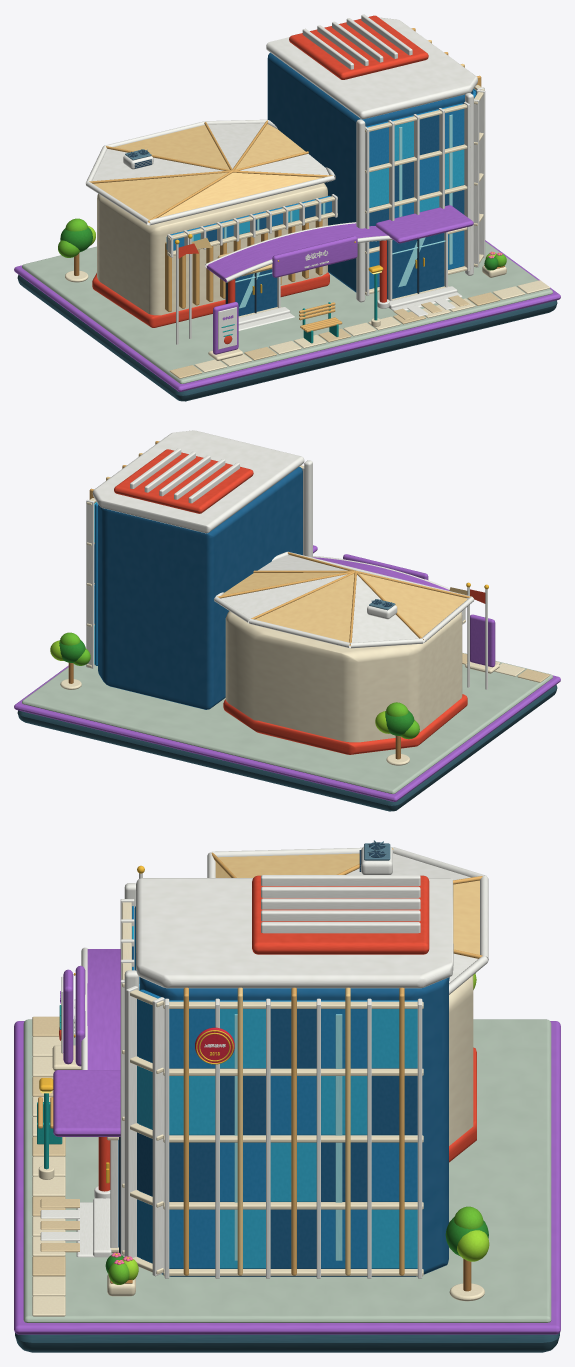
The model's file is 15_conference_center.glb.
3 renders of one model, top to bottom at view 1: azimuth 30°, elevation 25°; view 2: azimuth 150°, elevation 25°; view 3: azimuth 270°, elevation 25°, orthographic. The views are drawn at different scales.
Visible parts, largest first — view 1: 15_conference_center_Architecture, 15_conference_center_Display_Base, 15_conference_center_Landscaping, 15_conference_center_Signage; view 2: 15_conference_center_Architecture, 15_conference_center_Display_Base, 15_conference_center_Landscaping; view 3: 15_conference_center_Architecture, 15_conference_center_Display_Base, 15_conference_center_Landscaping, 15_conference_center_Signage.
Part boxes in pixels (<box>): 15_conference_center_Architecture: <box>85,14,485,360</box>; 15_conference_center_Display_Base: <box>14,240,560,401</box>; 15_conference_center_Landscaping: <box>58,218,506,343</box>; 15_conference_center_Signage: <box>222,236,357,320</box>; 15_conference_center_Architecture: <box>50,430,499,754</box>; 15_conference_center_Display_Base: <box>14,653,560,811</box>; 15_conference_center_Landscaping: <box>60,679,419,765</box>; 15_conference_center_Architecture: <box>38,840,489,1291</box>; 15_conference_center_Display_Base: <box>14,1016,560,1352</box>; 15_conference_center_Landscaping: <box>37,973,484,1301</box>; 15_conference_center_Signage: <box>60,965,234,1066</box>.
Size of the model in its own units: 12.03 by 6.83 by 9.03.
Materials: 4 (4 with a texture image).
